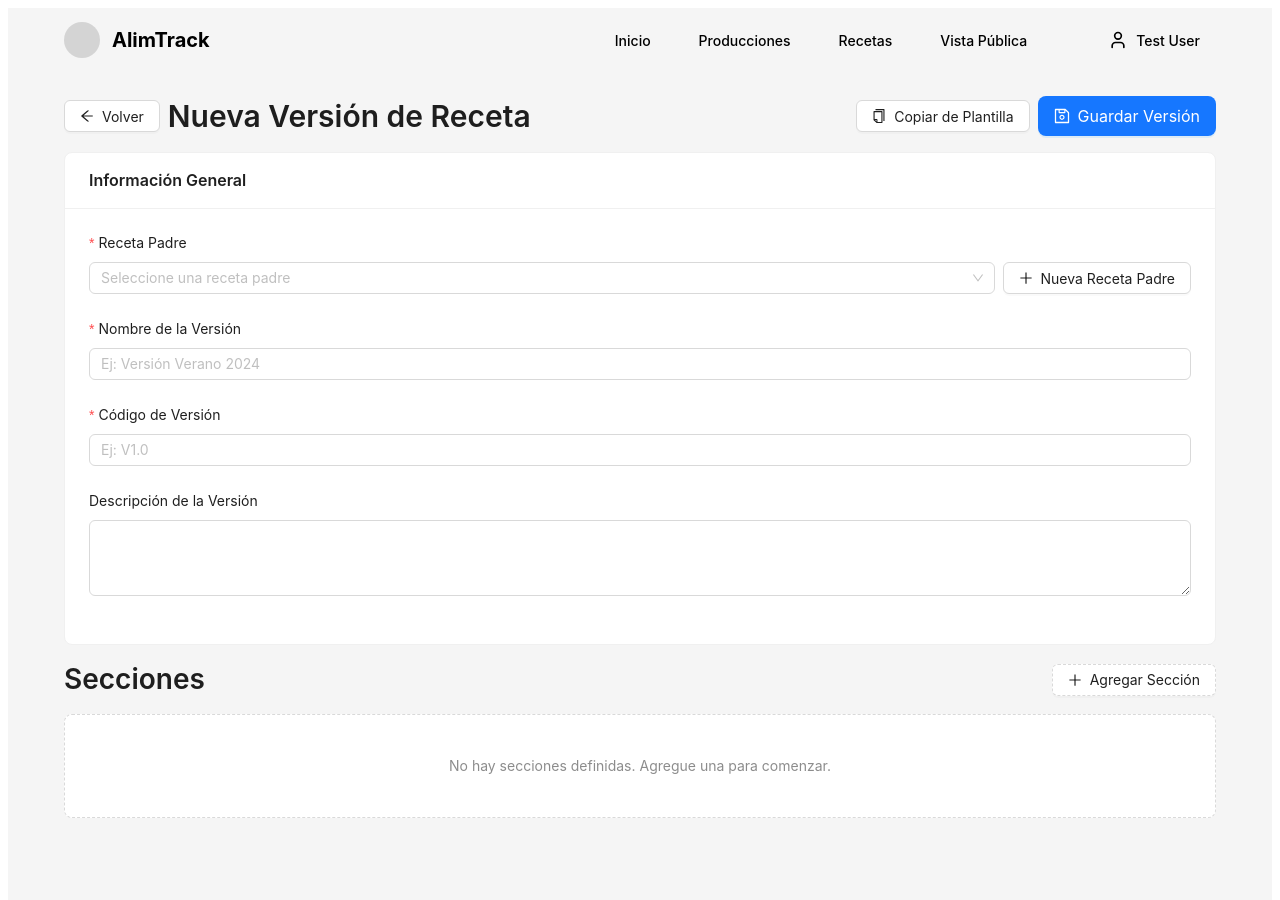
Scenario: RecipeBuilderPage - Integración y Flujos › Carga una plantilla y llena el formulario
Abrir el modal de plantillas
Click the button "Copiar de Plantilla": (943, 116) [856,100,1030,132]
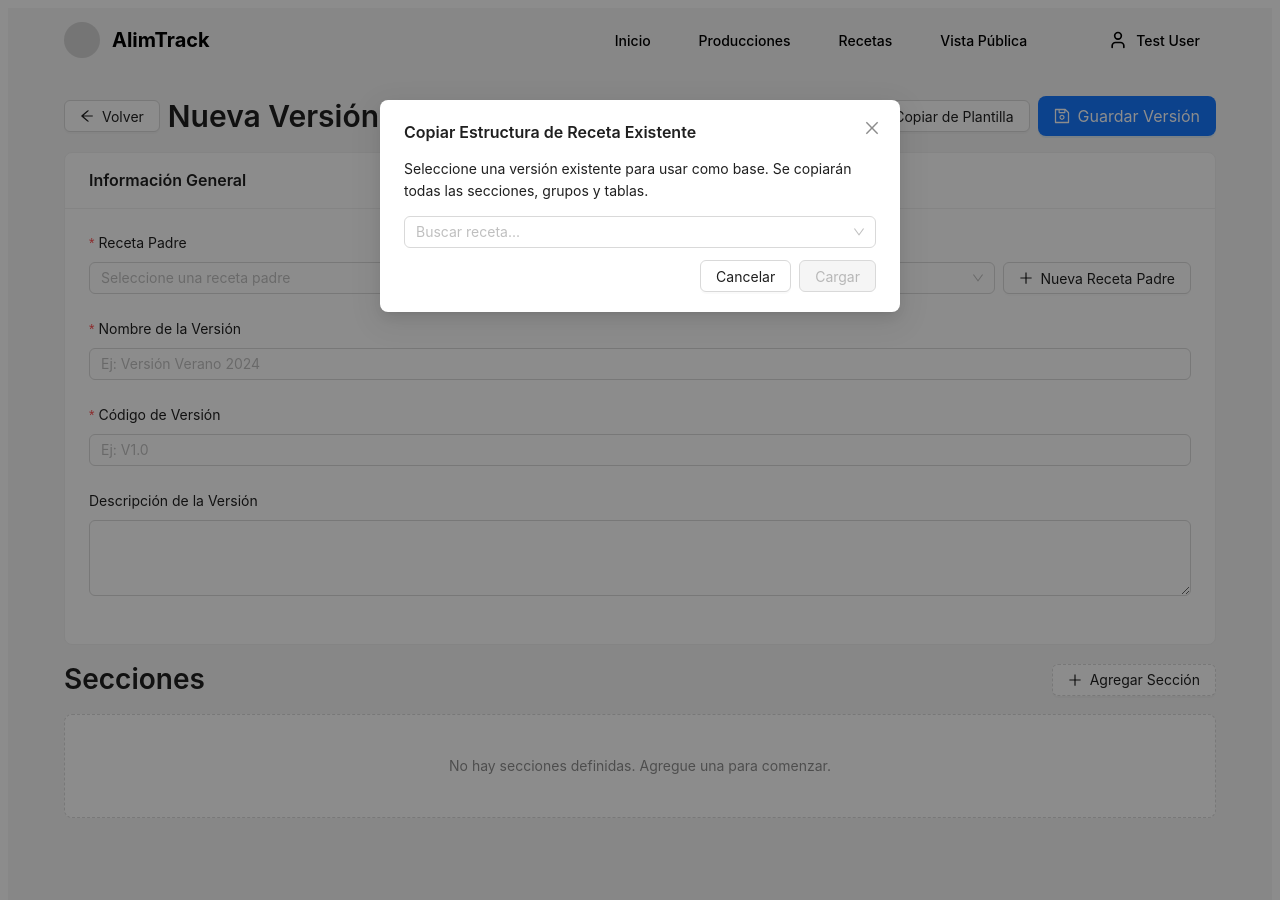
AntD Select interaction: click to open, then click option
Click the dropdown: (631, 232) [416,217,846,247]
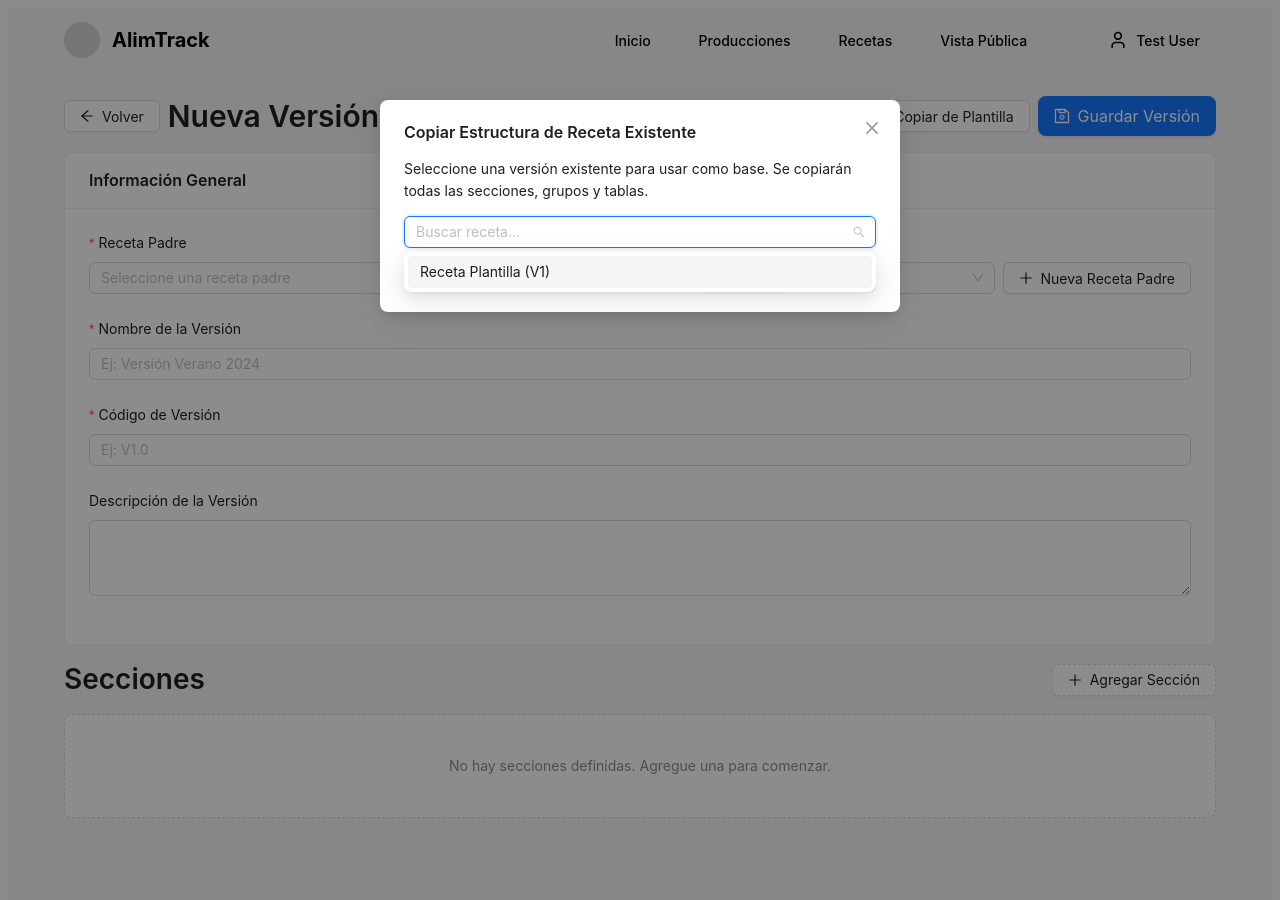
Click the text "Receta Plantilla (V1)": (485, 272) [420,263,550,280]
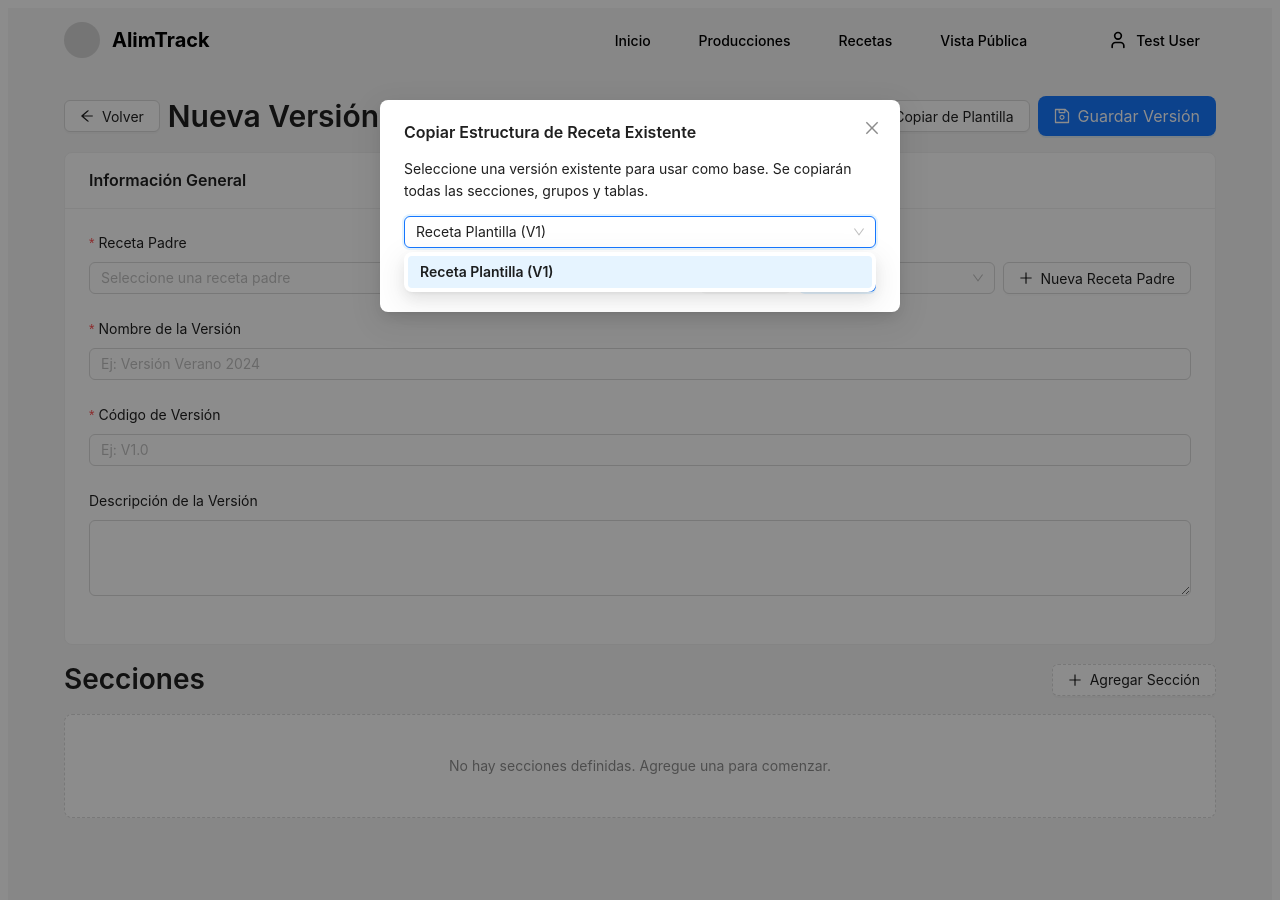
Cargar la plantilla
Click the button "Cargar": (838, 276) [799,260,876,292]
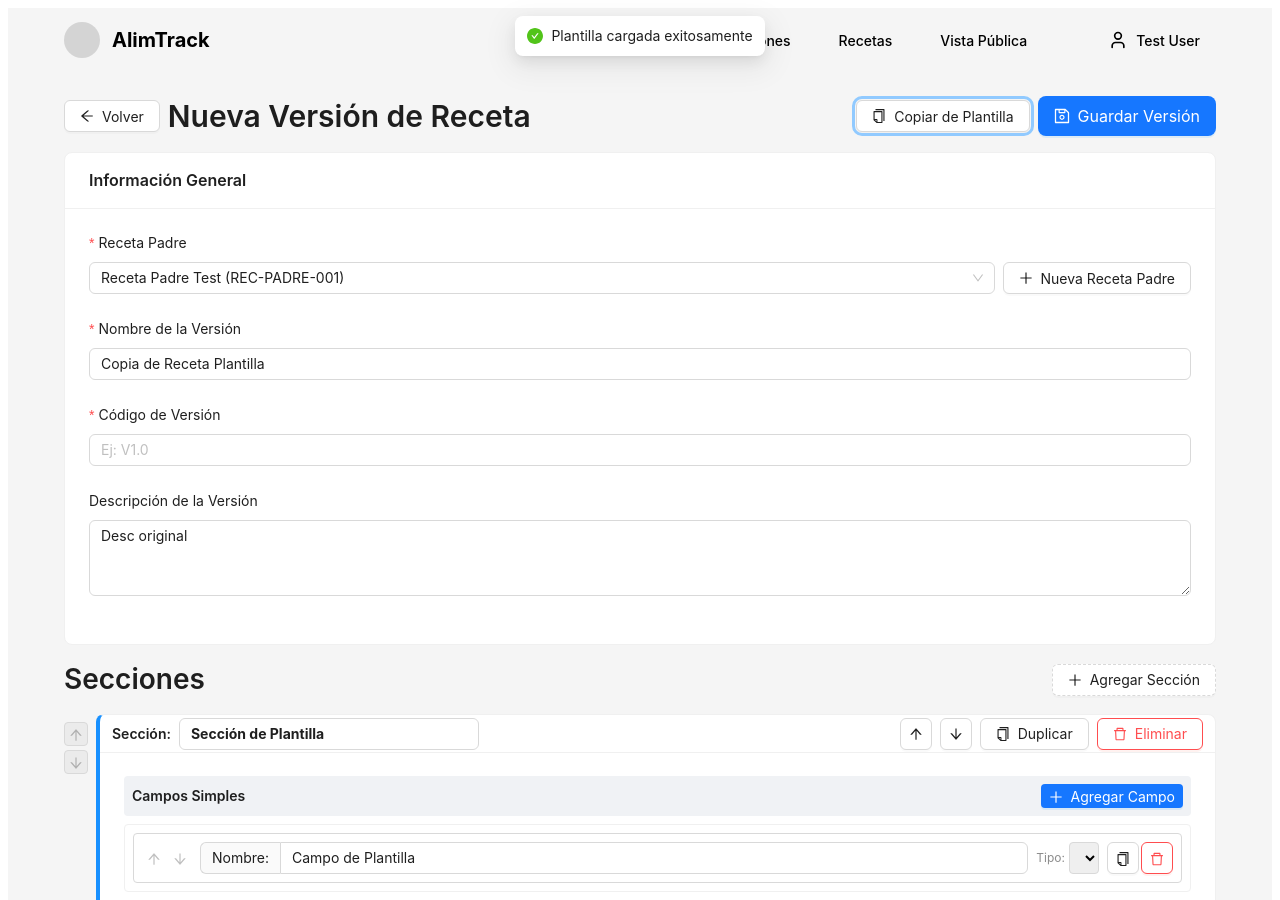
Expected: the field with placeholder "Ej: Versión Verano 2024" below "Nombre de la Versión" holds "Copia de Receta Plantilla", [89,348,1191,380]
Expected: the field showing "Sección de Plantilla" next to "Sección:" is shown, [179,718,479,750]
Expected: the field showing "Campo de Plantilla" next to "Nombre:" is shown, [280,842,1028,874]
